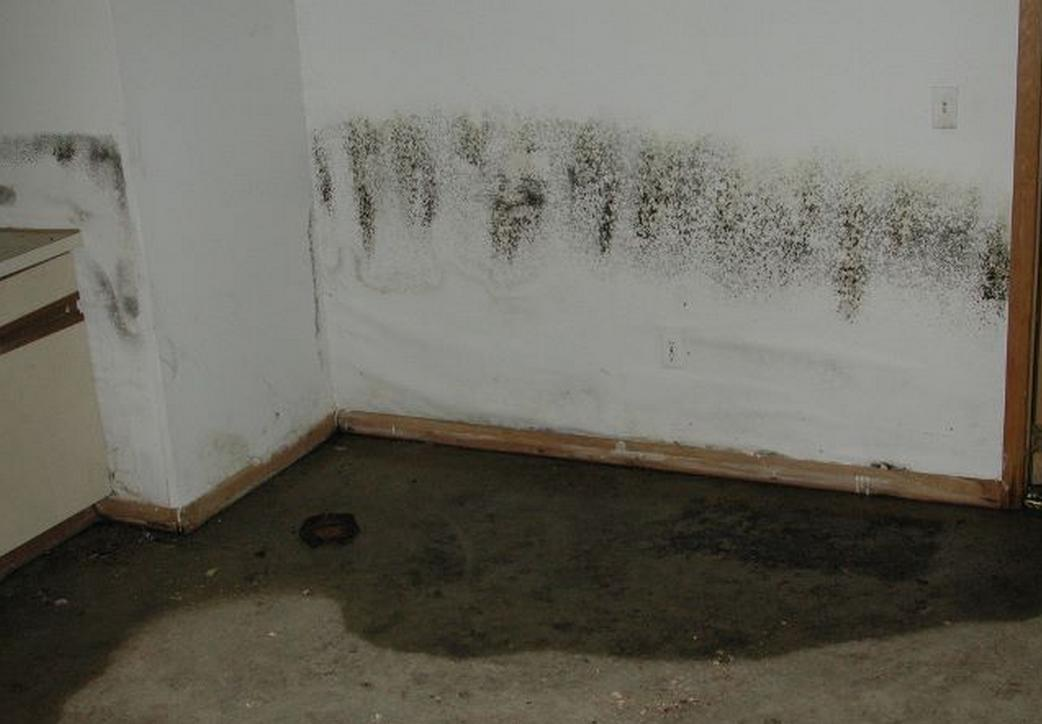water accumulation: (0, 419, 1042, 724)
